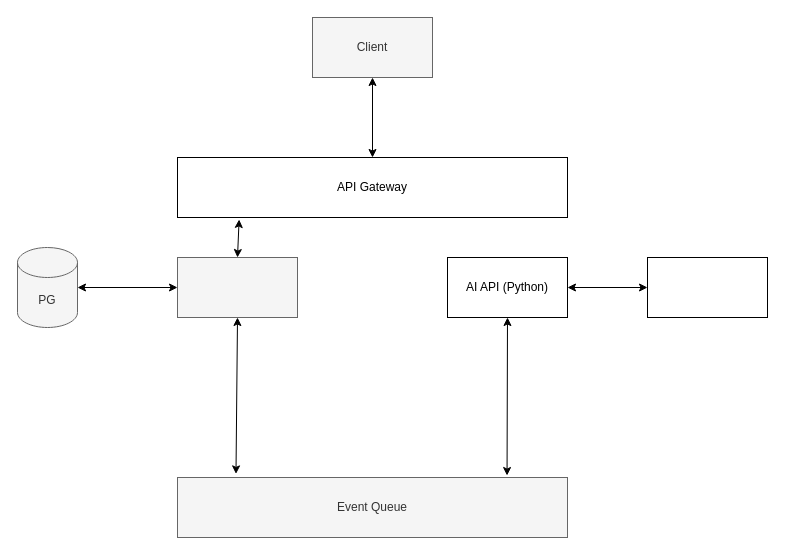
This 785x555 diagram has some shape labels left out. Each missing label, with the centre of its shape:
API (SB): [237,287]
Ollama: [707,287]
